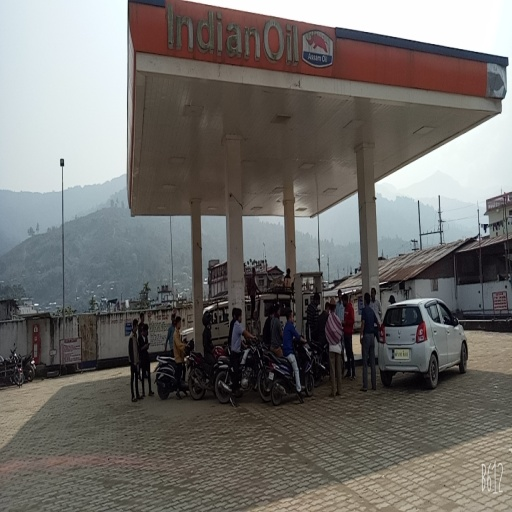roof: (127, 1, 512, 221)
